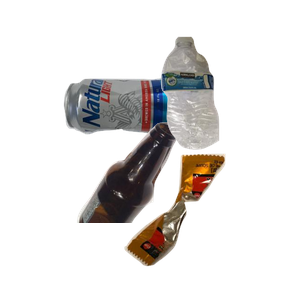glass: (74, 120, 244, 300)
metal: (61, 75, 231, 202)
plastic: (159, 34, 300, 176)
trash: (122, 151, 300, 300)
